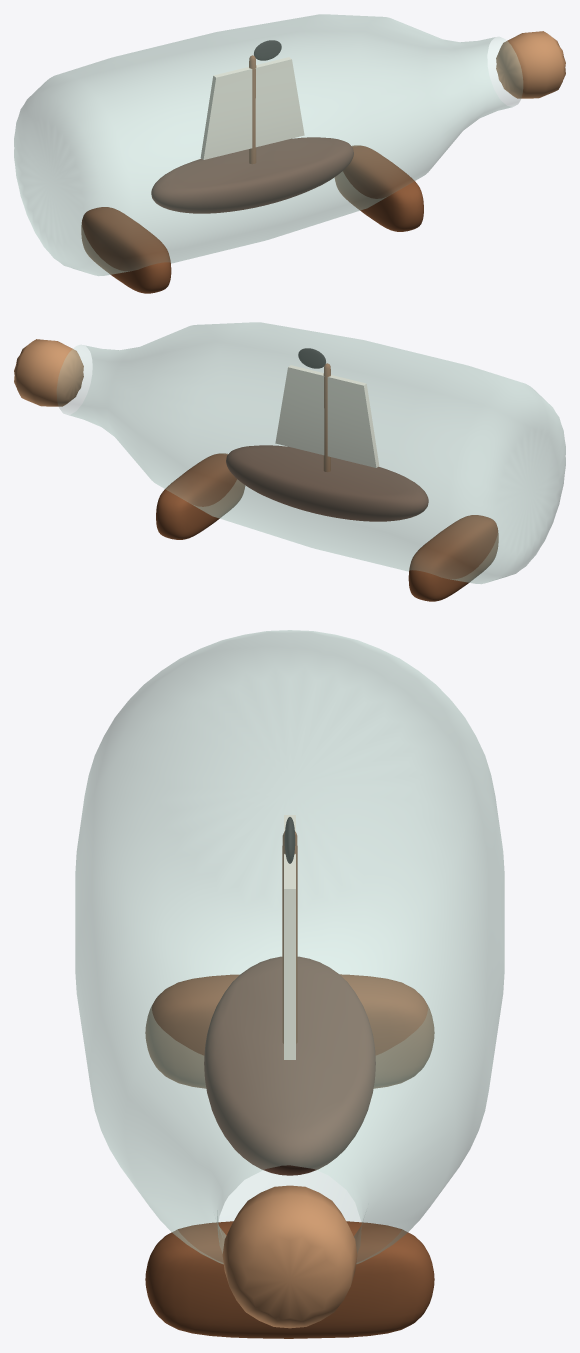
Rendered from deco_barco_botella.glb.
3 views of the same model, one above another, from view 1: azimuth 30°, elevation 25°; view 2: azimuth 150°, elevation 25°; view 3: azimuth 270°, elevation 25° (orthographic). The views are drawn at different scales.
Visible parts, largest first — view 1: botella.001, casco barco.001, vela.001, soporte -1.001, soporte 1.001, corcho.001, mástil barco.001, bandera pirata.001; view 2: botella.001, casco barco.001, vela.001, soporte -1.001, soporte 1.001, corcho.001, mástil barco.001, bandera pirata.001; view 3: botella.001, casco barco.001, soporte 1.001, corcho.001, soporte -1.001, vela.001, mástil barco.001.
Part boxes in pixels (x1,y1,x2,y2): botella.001: [14, 14, 522, 275]; casco barco.001: [151, 137, 353, 213]; vela.001: [200, 57, 304, 159]; soporte -1.001: [81, 207, 171, 293]; soporte 1.001: [334, 145, 423, 231]; corcho.001: [496, 31, 565, 98]; mástil barco.001: [249, 55, 256, 164]; bandera pirata.001: [254, 40, 281, 60]; botella.001: [57, 322, 565, 583]; casco barco.001: [226, 445, 428, 521]; vela.001: [275, 365, 379, 467]; soporte -1.001: [408, 515, 498, 601]; soporte 1.001: [156, 453, 245, 539]; corcho.001: [14, 339, 83, 406]; mástil barco.001: [323, 363, 330, 472]; bandera pirata.001: [298, 348, 325, 368]; botella.001: [75, 630, 504, 1263]; casco barco.001: [204, 956, 375, 1175]; soporte 1.001: [145, 1221, 434, 1338]; corcho.001: [222, 1185, 357, 1328]; soporte -1.001: [145, 974, 434, 1088]; vela.001: [284, 815, 295, 1059]; mástil barco.001: [282, 831, 297, 1043].
Size of the model in its own units: 0.4 by 0.1584 by 0.1471.
